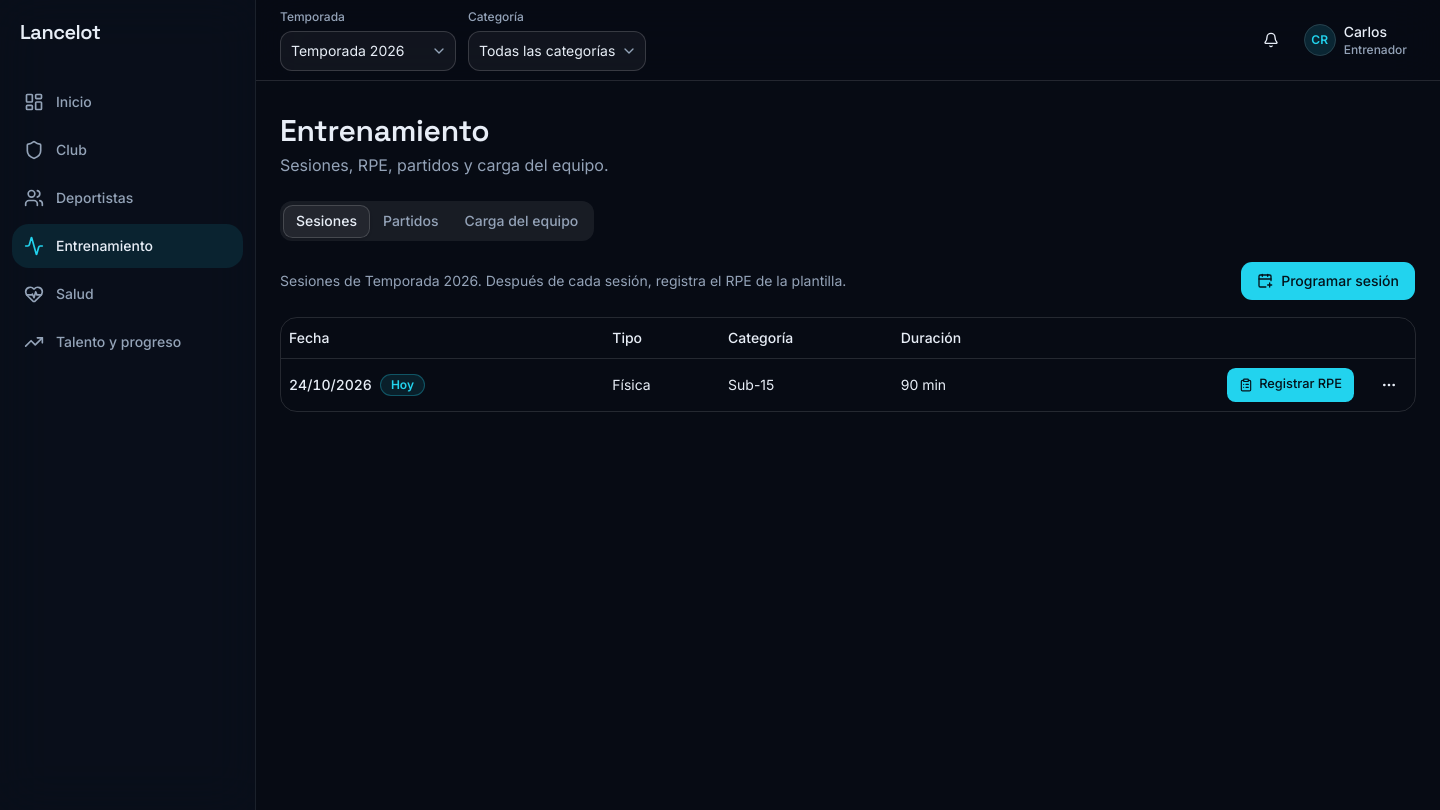
it: registro rápido de RPE › no envía a quien no asistió y muestra el error en la fila que falló
Click the button "Registrar RPE" at (1291, 384), box x1=1226 y1=366 x2=1355 y2=402
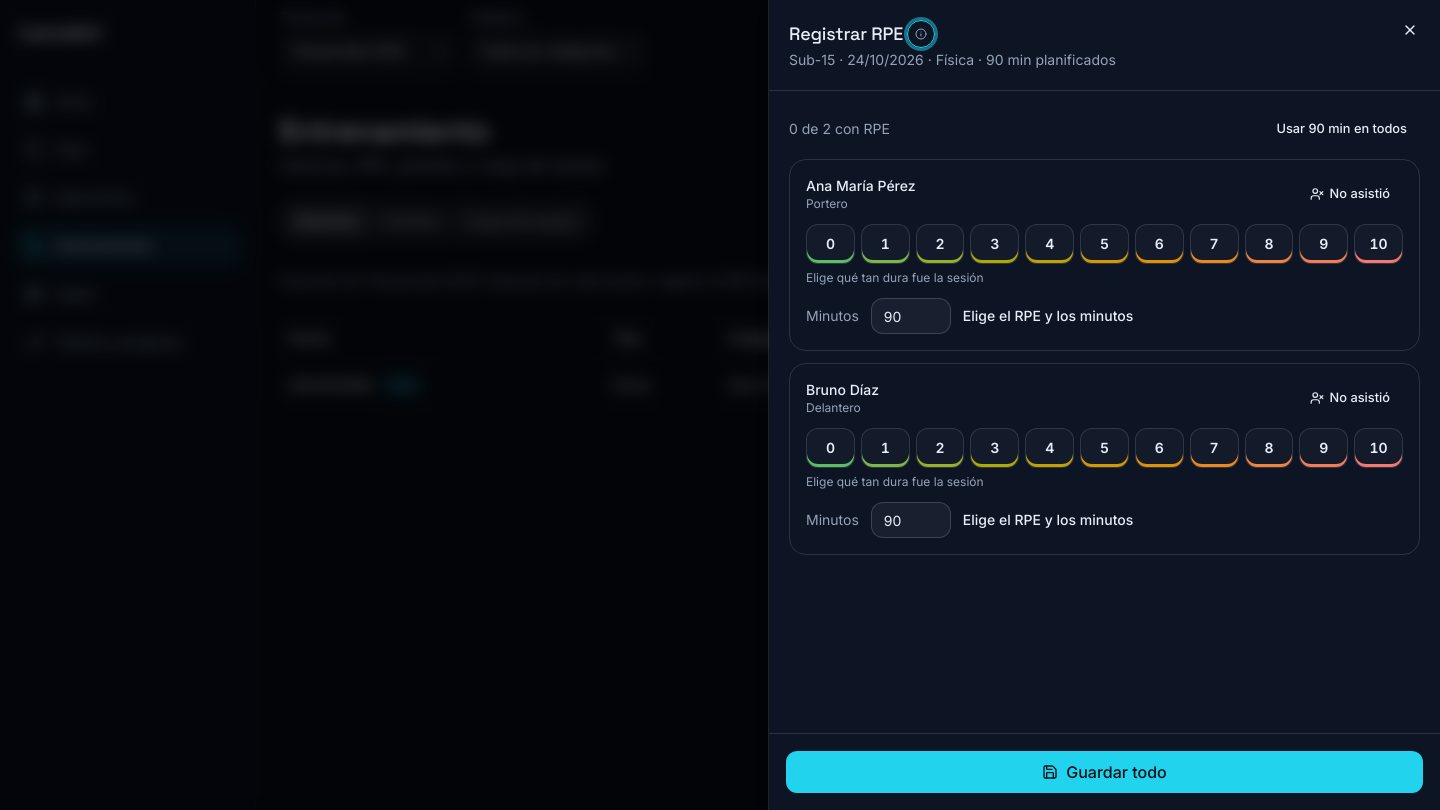
Expected: the text "Ana María Pérez" is shown, x1=806 y1=176 x2=916 y2=196
Click the radio button named "5: Duro" at (1104, 244), box x1=1080 y1=224 x2=1129 y2=264
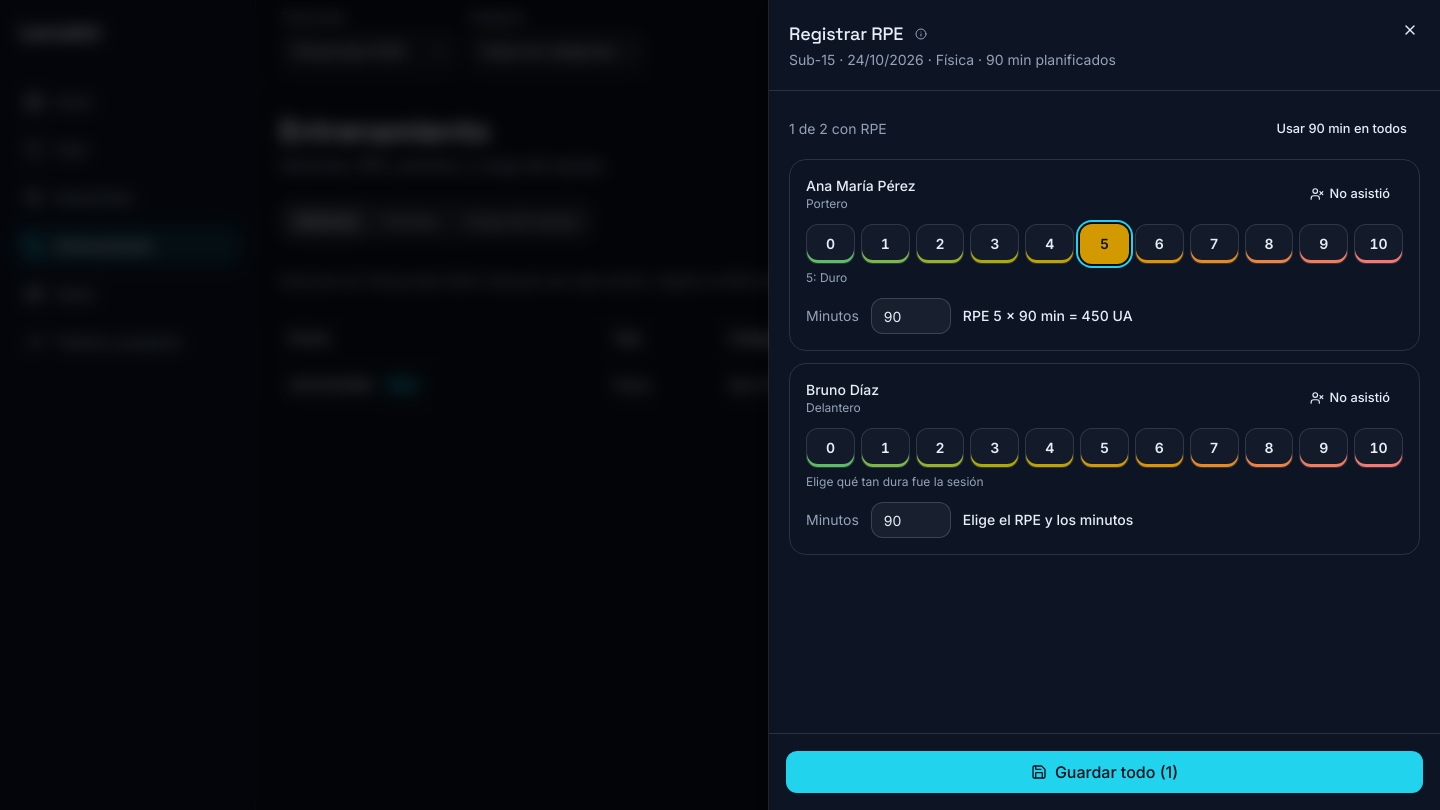
Click the radio button named "9: Muy, muy duro" at (1324, 448), box x1=1299 y1=428 x2=1348 y2=468
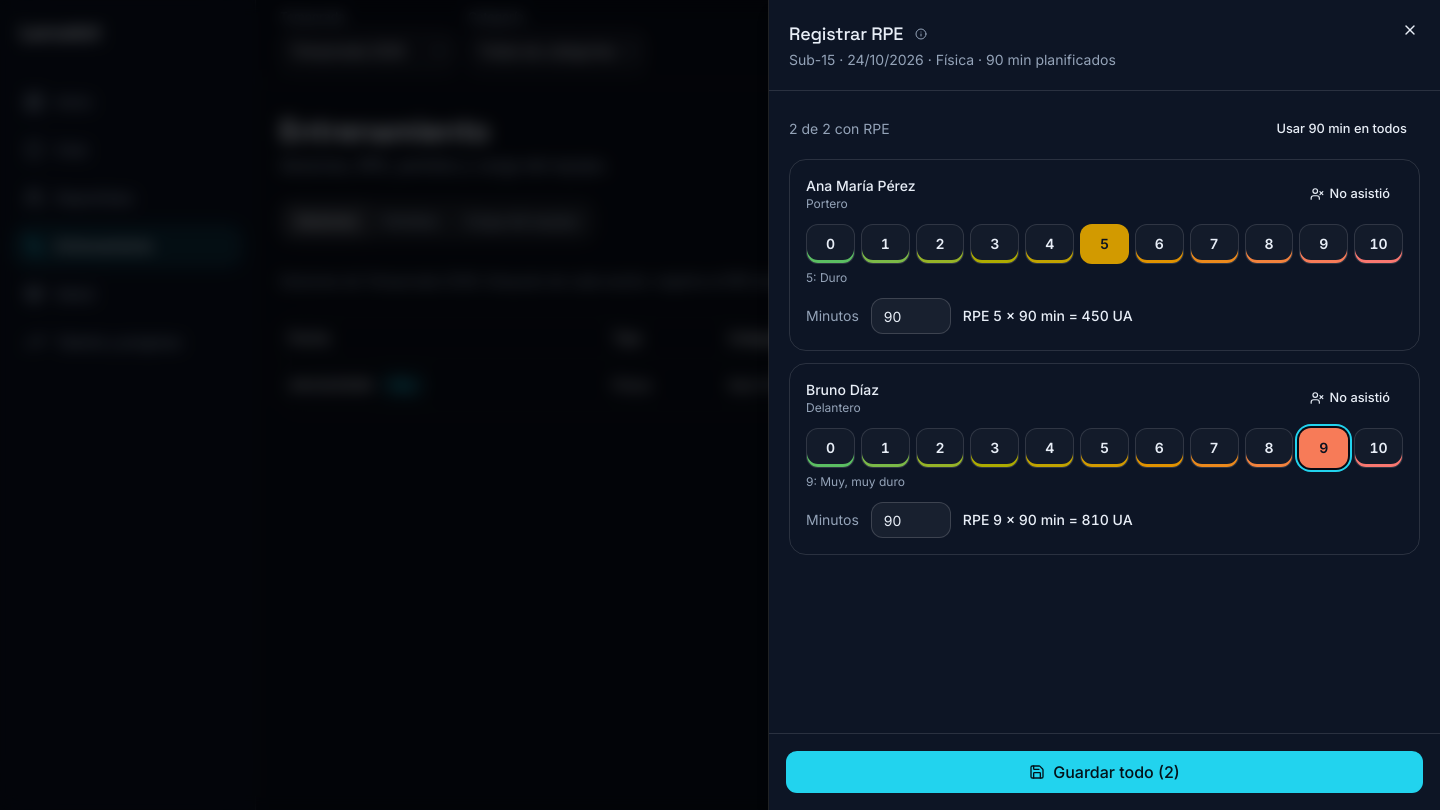
Click the button "No asistió" in the row of "Bruno Díaz" at (1350, 398), box x1=1297 y1=380 x2=1403 y2=416
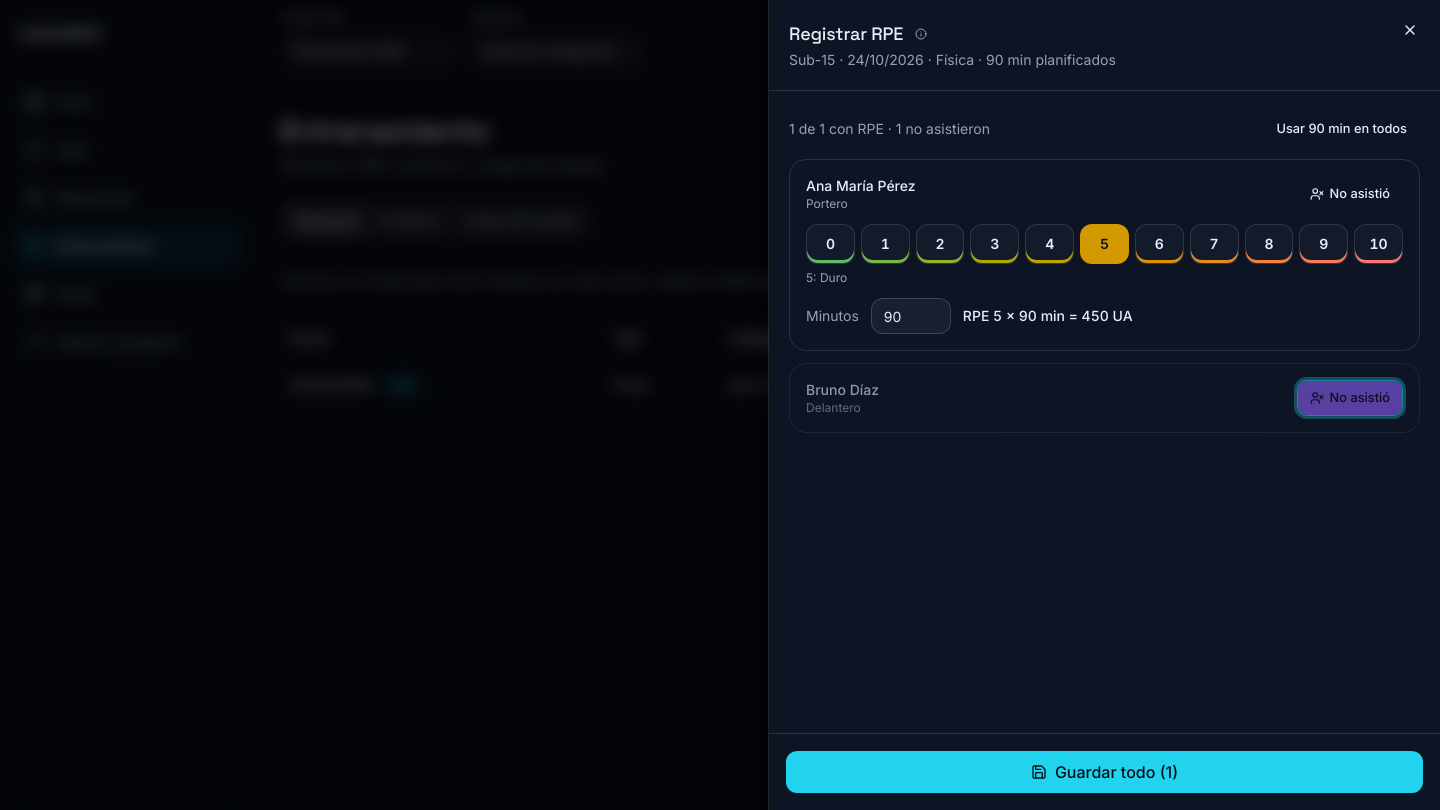
Click the button "Guardar todo (1)" at (1104, 772), box x1=785 y1=750 x2=1424 y2=794
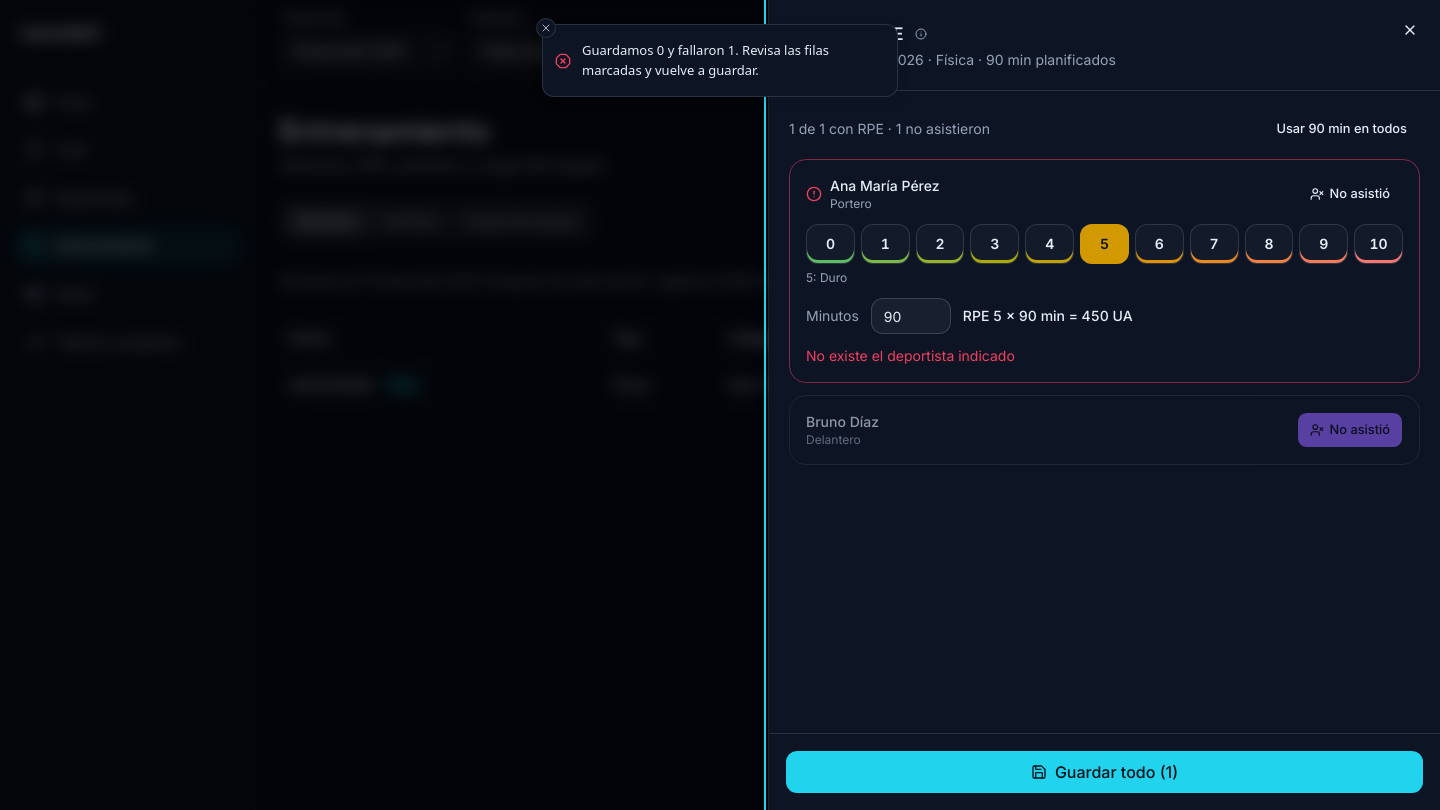
Expected: the text "No existe el deportista indicado" is shown, x1=806 y1=347 x2=1015 y2=364
